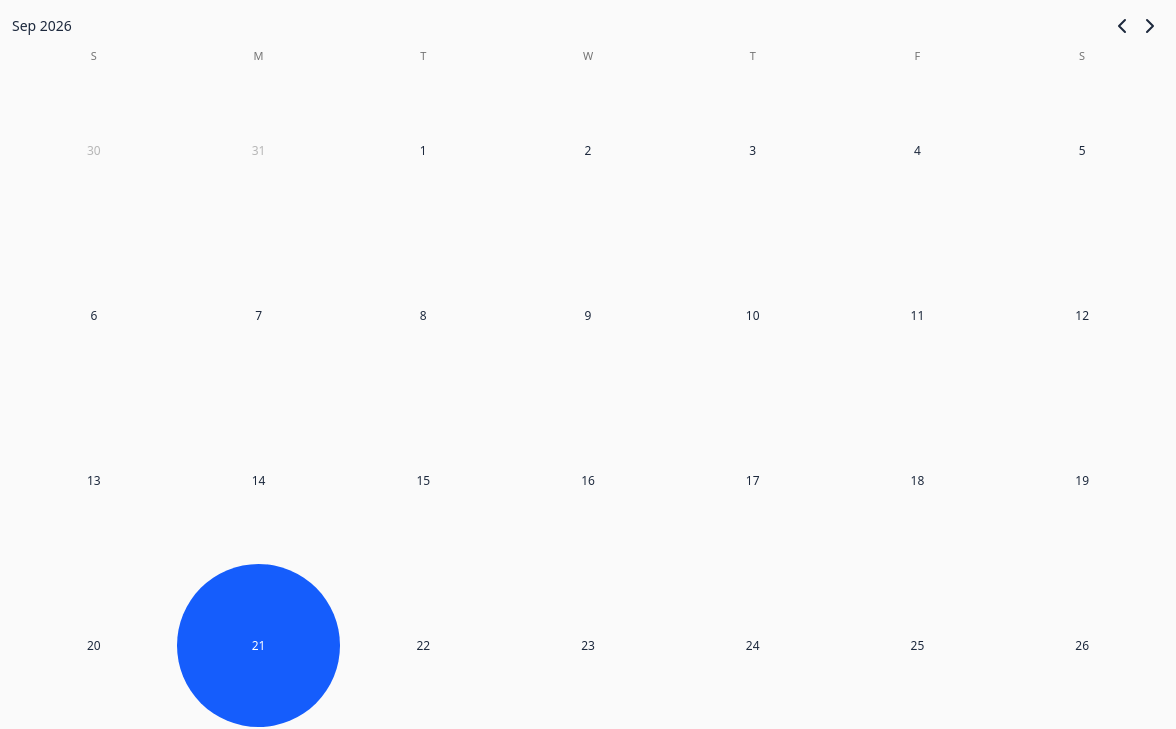
Test case: browsing is independent of the selection › pages months without picking anything
What coordinates should you click on to do the following:
click the button named "next month"
I would click on:
 (1150, 26)
Its box is [1136,12,1164,40].
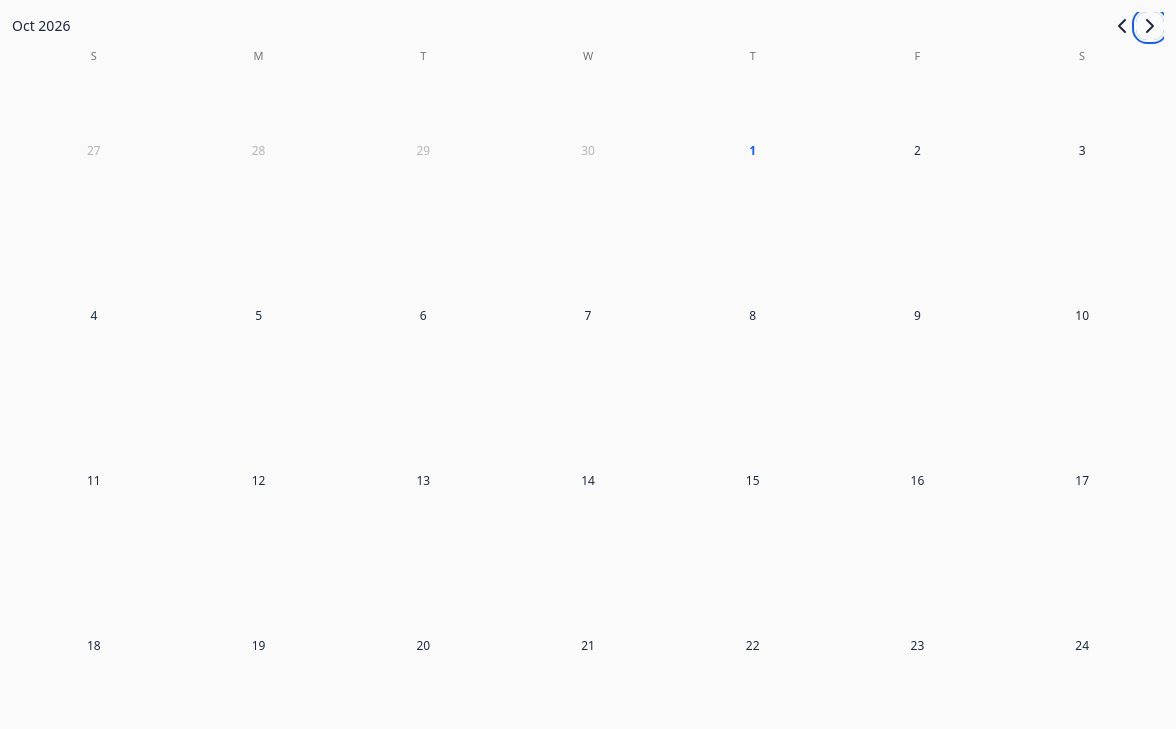
Now the text "Oct 2026" is shown, box [12,16,70,36]
